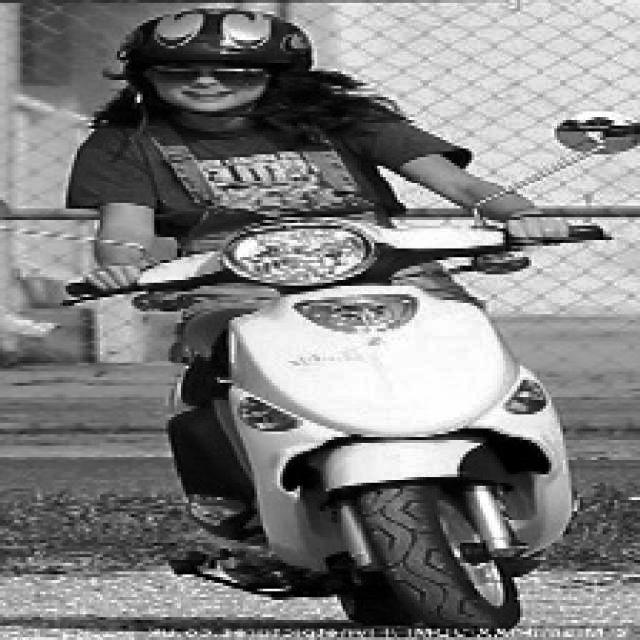Bike: (122, 231, 607, 632)
